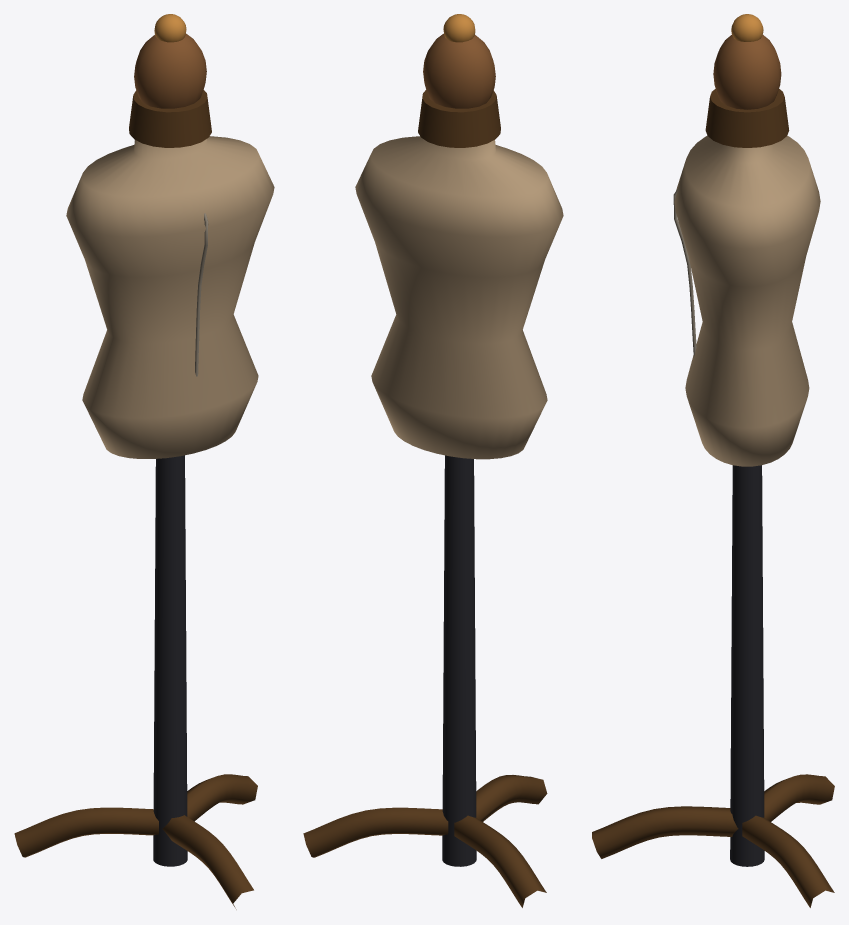
The model's file is mia-mannequin.glb.
3 views of the same model, side by side, from view 1: azimuth 30°, elevation 25°; view 2: azimuth 150°, elevation 25°; view 3: azimuth 270°, elevation 25° (orthographic).
Visible parts, largest first — view 1: Body_page-beige, Body_iron, Body_wood, Body_oak, Body_brass, Body_mattress-seam; view 2: Body_page-beige, Body_iron, Body_wood, Body_oak, Body_brass; view 3: Body_page-beige, Body_wood, Body_iron, Body_oak, Body_brass, Body_mattress-seam.
Part boxes in pixels (box(x1,y1,x2,y2)): Body_page-beige: box(66, 136, 274, 458); Body_iron: box(153, 455, 187, 866); Body_wood: box(14, 90, 257, 909); Body_oak: box(134, 33, 206, 108); Body_brass: box(154, 14, 186, 42); Body_mattress-seam: box(195, 213, 208, 376); Body_page-beige: box(355, 136, 563, 459); Body_iron: box(442, 455, 476, 866); Body_wood: box(303, 90, 547, 907); Body_oak: box(423, 33, 495, 108); Body_brass: box(443, 14, 475, 42); Body_page-beige: box(674, 135, 820, 466); Body_wood: box(592, 89, 834, 907); Body_iron: box(730, 465, 764, 866); Body_oak: box(713, 35, 781, 109); Body_brass: box(731, 14, 763, 41); Body_mattress-seam: box(673, 188, 696, 357).
Bounding box in the file's own units: 0.4986 × 1.67 × 0.4354.
